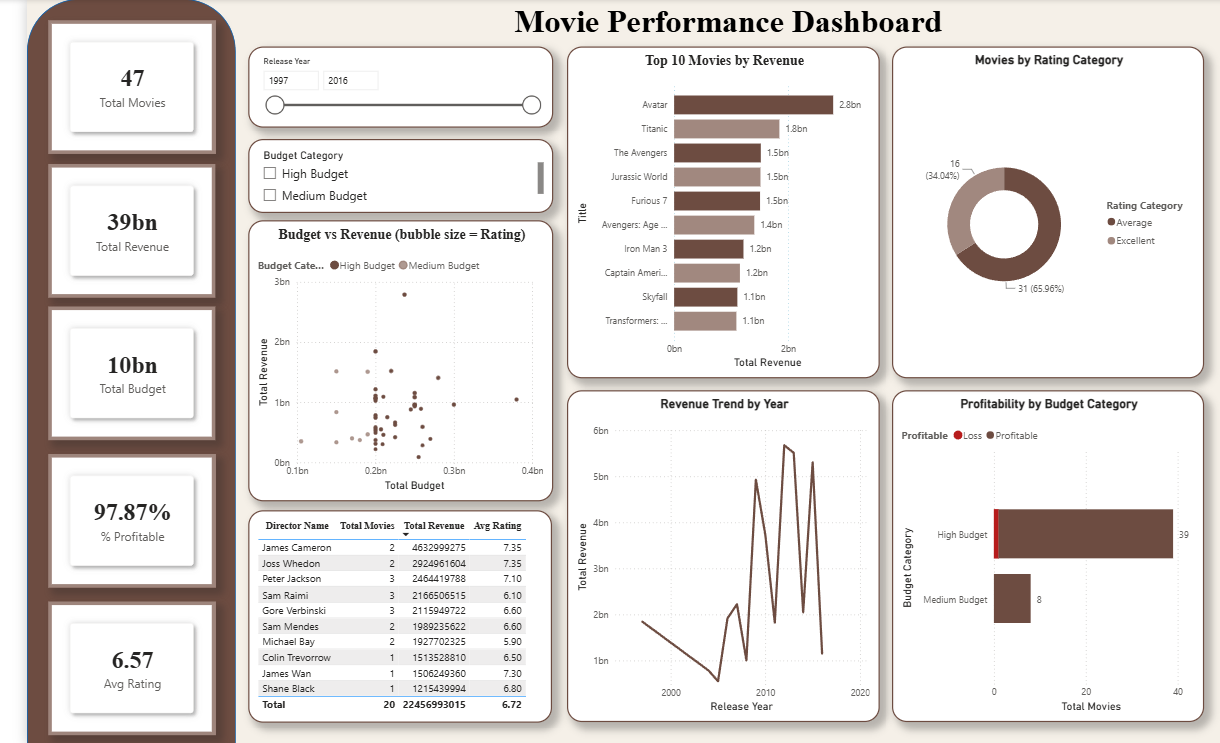

The dashboard page shown, as its layout file describes it:
{"tool":"powerbi","page":{"name":"Overview (Trends & Directors)","canvas":[1600,1000],"ordinal":0},"visuals":[{"type":"shape","box":[0,0,279.8,1000.3],"z":0},{"type":"cardVisual","fields":{"Data":["MoviesTable.Total Movies"]},"box":[28.5,28.5,224.5,179.3],"z":1000},{"type":"cardVisual","fields":{"Data":["MoviesTable.Total Revenue"]},"box":[28.5,221.2,224,179],"z":2000},{"type":"cardVisual","fields":{"Data":["MoviesTable.Total Budget"]},"box":[28.5,412.2,224,179],"z":3000},{"type":"cardVisual","fields":{"Data":["MoviesTable.% Profitable"]},"box":[28.5,609.9,224.8,179],"z":4000},{"type":"cardVisual","fields":{"Data":["MoviesTable.Avg Rating"]},"box":[28.5,807.6,224.5,179],"z":5000},{"type":"textbox","box":[279.8,0,1320.4,63.7],"z":6000},{"type":"slicer","fields":{"Values":["MoviesTable.Release Year"]},"box":[296.6,63.7,408.8,108.9],"z":7000},{"type":"slicer","fields":{"Values":["MoviesTable.Budget Category"]},"box":[296.6,187.7,408.8,98.9],"z":8000},{"type":"clusteredBarChart","title":"Top 10 Movies by Revenue","fields":{"Category":["MoviesTable.Title"],"Y":["MoviesTable.Total Revenue"]},"box":[723.9,63.7,418.9,445],"z":9000},{"type":"scatterChart","title":"Budget vs Revenue (bubble size = Rating)","fields":{"X":["MoviesTable.Total Budget"],"Y":["MoviesTable.Total Revenue"],"Size":["Sum(MoviesTable.Vote Average)"],"Series":["MoviesTable.Budget Category"],"Category":["MoviesTable.Title"]},"box":[296.6,296.6,408.8,377],"z":10000},{"type":"barChart","title":"Profitability by Budget Category","fields":{"Category":["MoviesTable.Budget Category"],"Y":["MoviesTable.Total Movies"],"Series":["MoviesTable.Profitable"]},"box":[1159.5,524.5,418,445],"z":11000},{"type":"lineChart","title":"Revenue Trend by Year","fields":{"Category":["MoviesTable.Release Year"],"Y":["MoviesTable.Total Revenue"]},"box":[723.9,524.5,418.9,445],"z":12000},{"type":"donutChart","title":"Movies by Rating Category","fields":{"Category":["MoviesTable.Rating Category"],"Y":["MoviesTable.Total Movies"]},"box":[1159.5,63.7,418,445],"z":13000},{"type":"tableEx","fields":{"Values":["MoviesTable.Director Name","MoviesTable.Total Movies","MoviesTable.Total Revenue","MoviesTable.Avg Rating"]},"box":[296.6,685.3,407.2,284.9],"z":14000}]}

Visuals, with their boxes in screenshot pixels (x1, y1, x2, y2), scaled from the page's 1600x1000 canvas onto the 1220x743 screenshot:
shape: [0, 0, 213, 742]
cardVisual - MoviesTable.Total Movies: [22, 21, 193, 154]
cardVisual - MoviesTable.Total Revenue: [22, 164, 193, 297]
cardVisual - MoviesTable.Total Budget: [22, 306, 193, 439]
cardVisual - MoviesTable.% Profitable: [22, 453, 193, 586]
cardVisual - MoviesTable.Avg Rating: [22, 600, 193, 733]
textbox: [213, 0, 1219, 47]
slicer - MoviesTable.Release Year: [226, 47, 538, 128]
slicer - MoviesTable.Budget Category: [226, 139, 538, 213]
"Top 10 Movies by Revenue" clusteredBarChart: [552, 47, 871, 378]
"Budget vs Revenue (bubble size = Rating)" scatterChart: [226, 220, 538, 500]
"Profitability by Budget Category" barChart: [884, 390, 1203, 720]
"Revenue Trend by Year" lineChart: [552, 390, 871, 720]
"Movies by Rating Category" donutChart: [884, 47, 1203, 378]
tableEx - MoviesTable.Director Name x MoviesTable.Total Movies: [226, 509, 537, 721]
